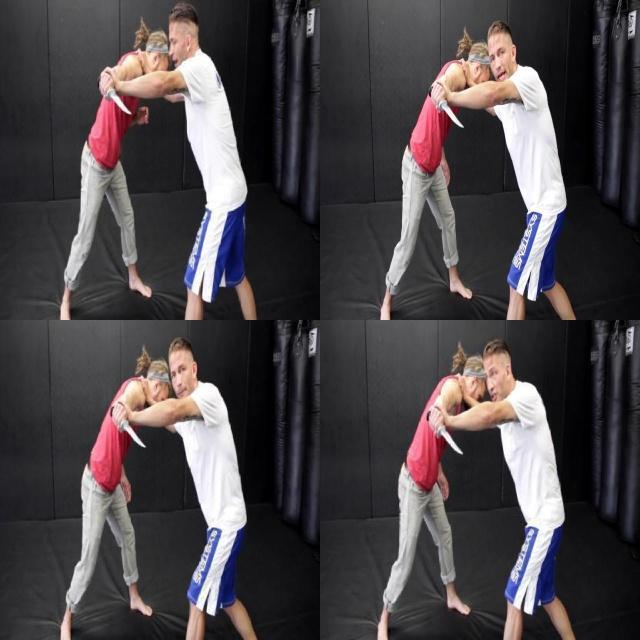-: (425, 405, 465, 461), (426, 82, 466, 132), (108, 404, 148, 452), (94, 73, 134, 119)
